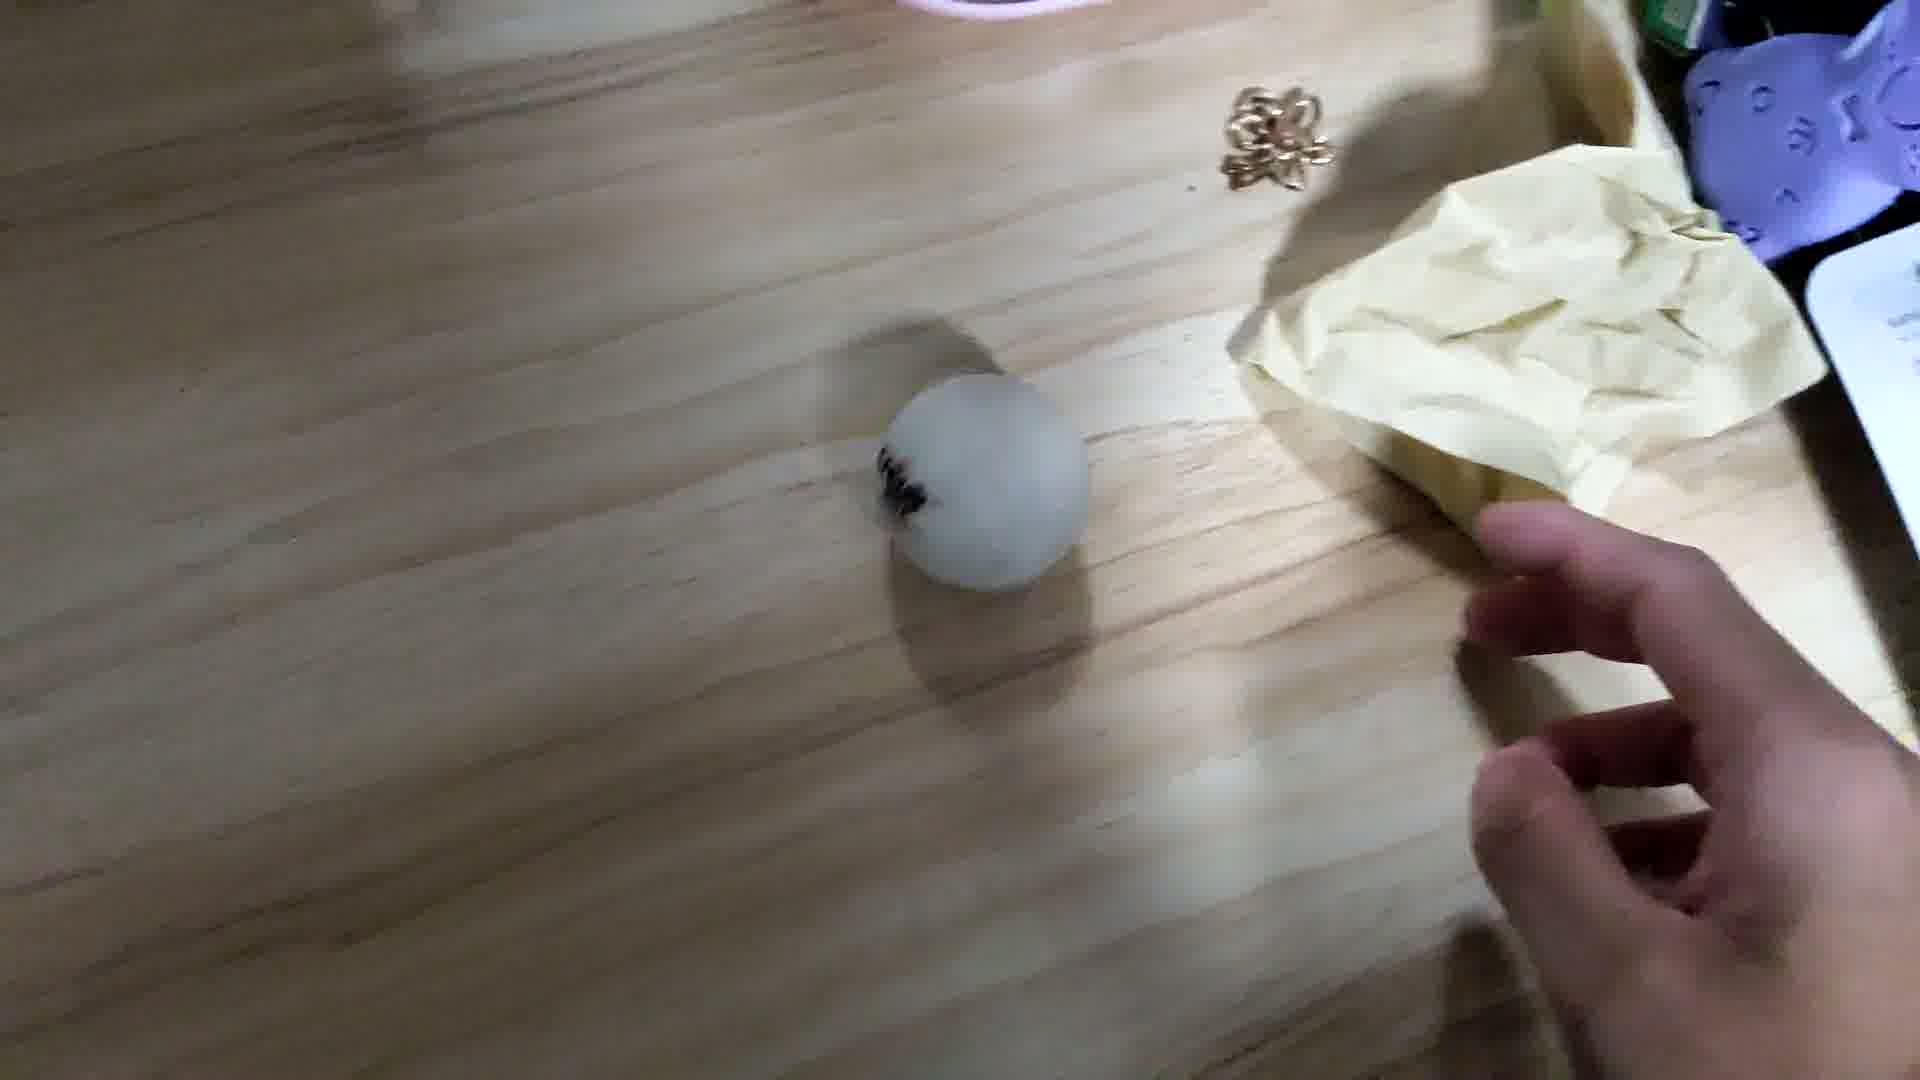Ball: (877, 367, 1096, 592)
